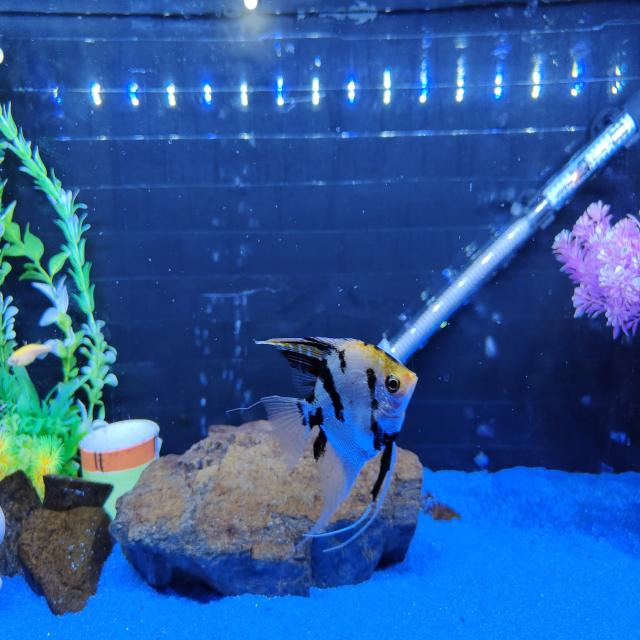Fish: (257, 338, 417, 549), (7, 341, 53, 366)
